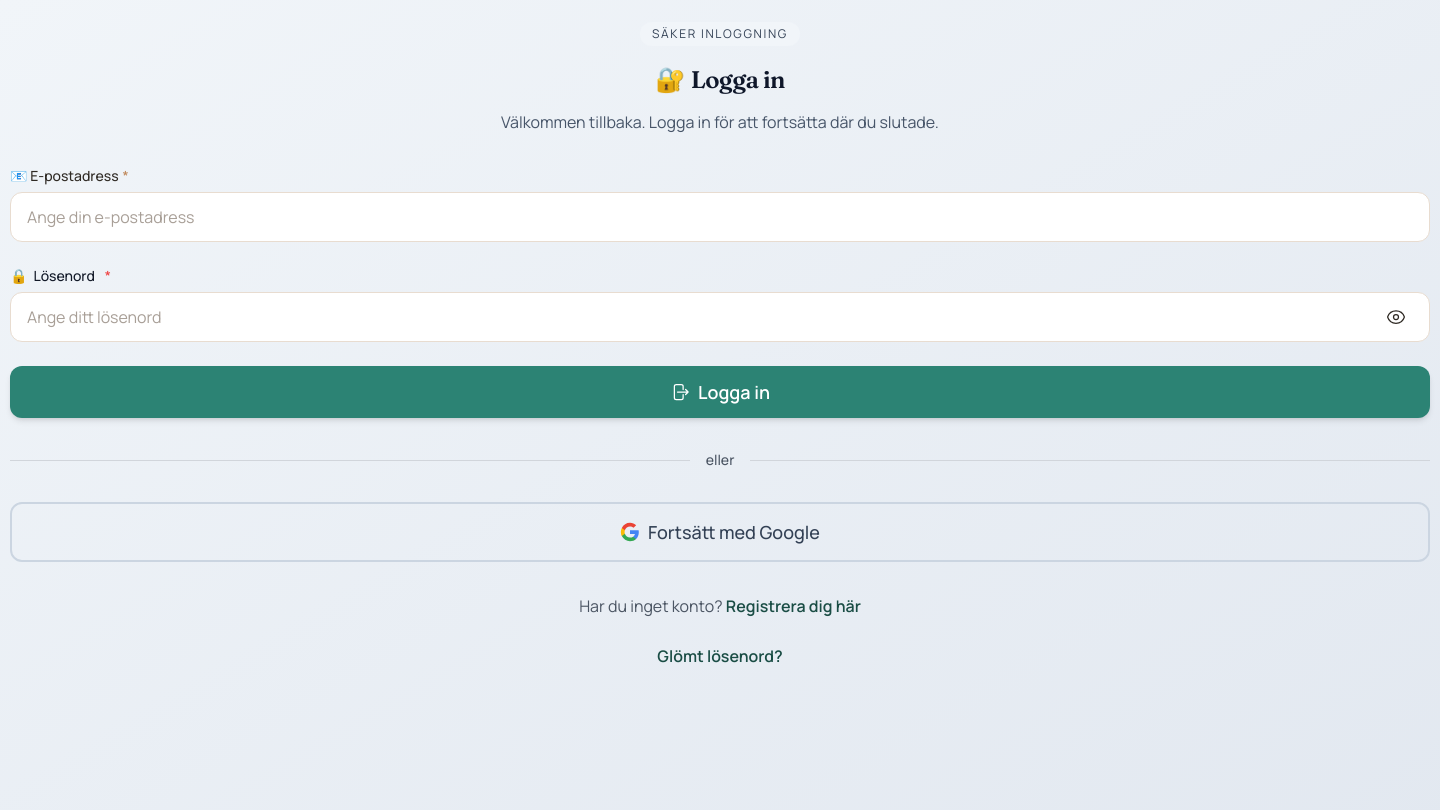
LoginForm › shows popup-blocked error message
Type "test@example.com" into the field with placeholder "Ange din e-postadress". click: (720, 217)
box: [10,192,1430,242]
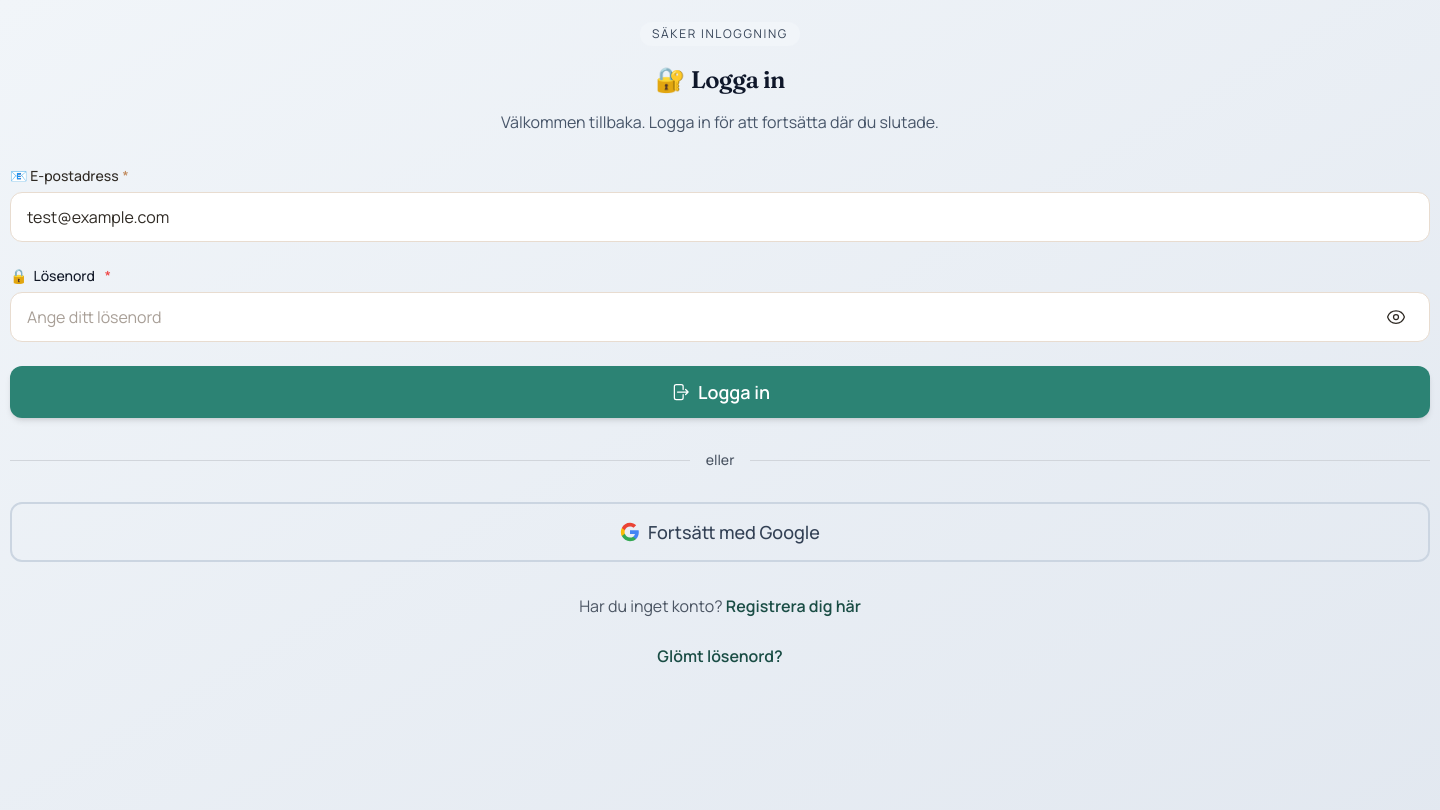
Type "pass123" into the password field with placeholder "Ange ditt lösenord". click: (720, 317)
box: [10,292,1430,342]
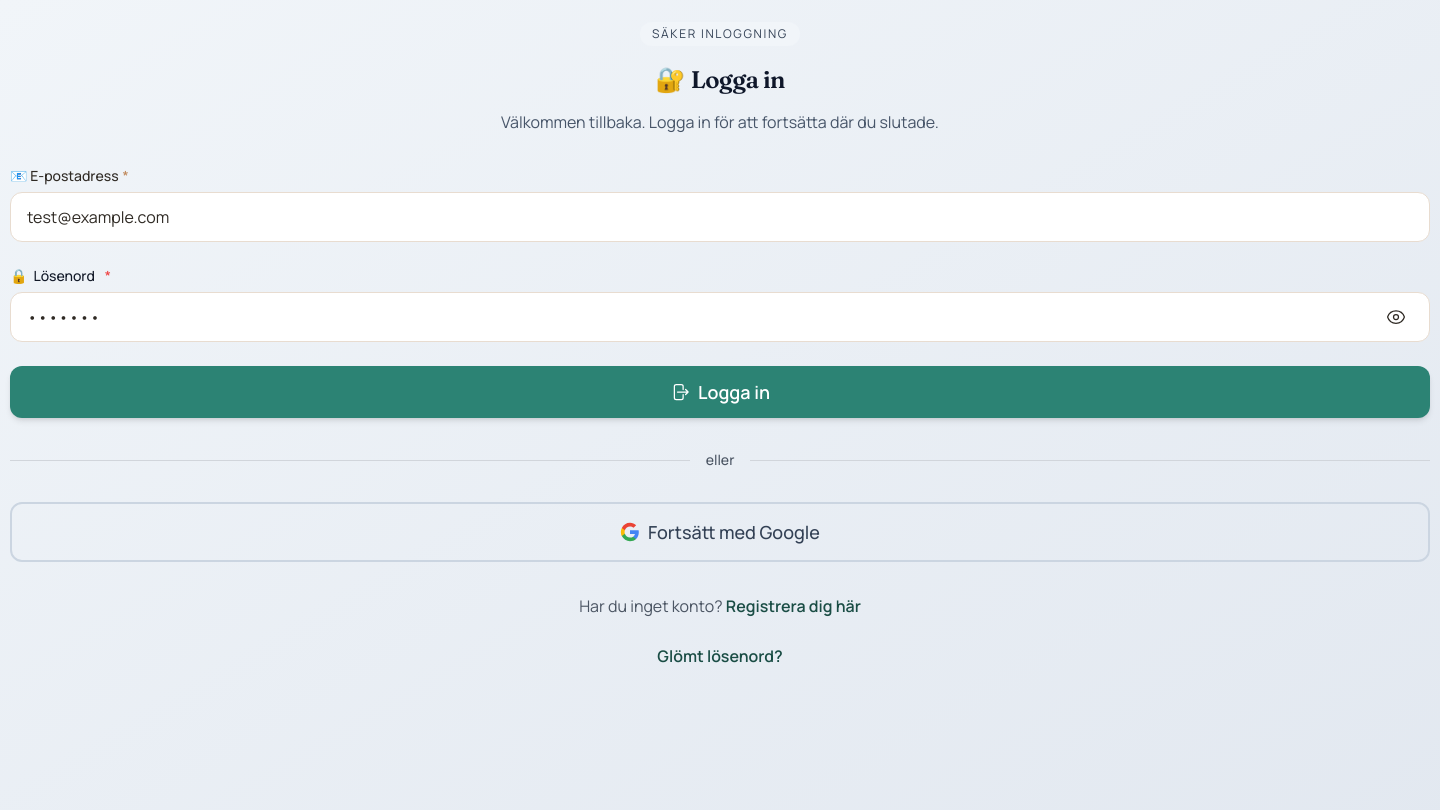
Click the button "Logga in". click: (720, 392)
box: [10,366,1430,418]
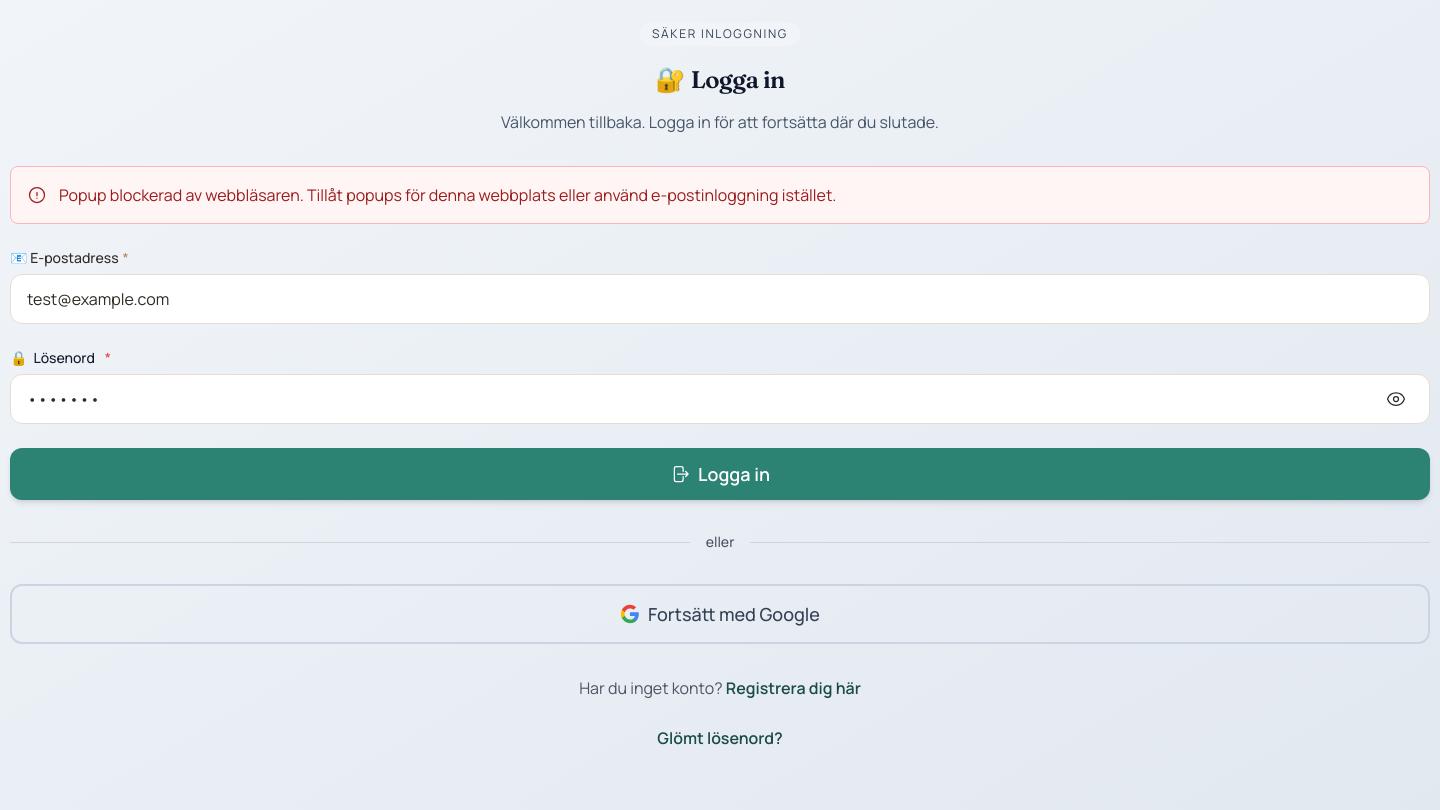
Now the text "Popup blockerad" is shown, box [59,184,836,206]
